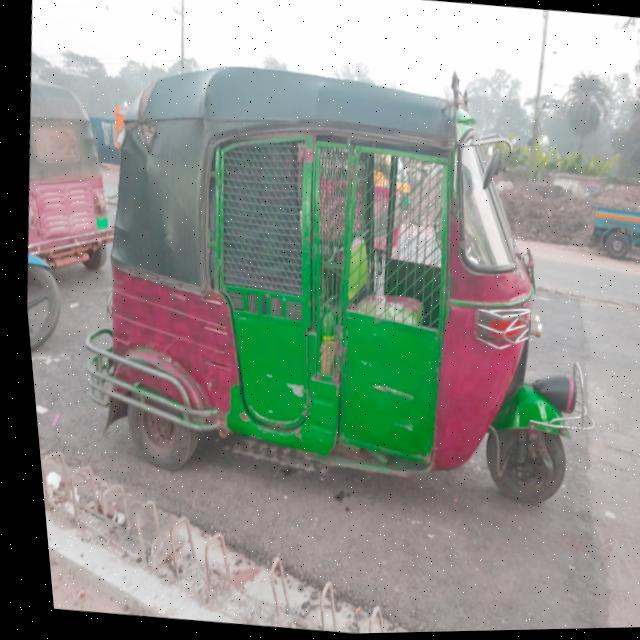cng: (39, 17, 638, 575)
